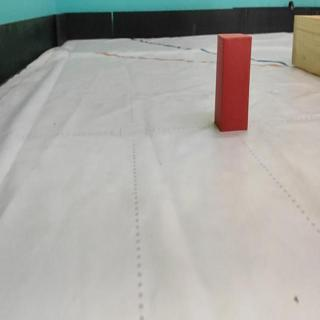redbox: (215, 31, 252, 131)
